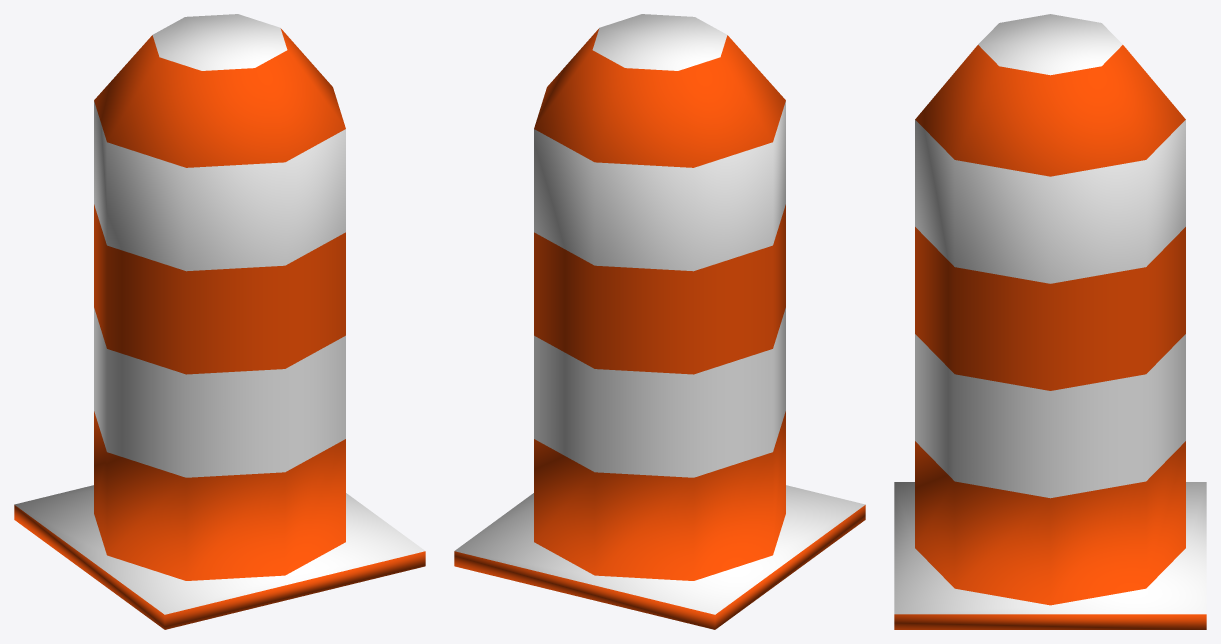
The model's file is trafficConeBig.fbx.
3 renders of one model, left to right at view 1: azimuth 30°, elevation 25°; view 2: azimuth 150°, elevation 25°; view 3: azimuth 270°, elevation 25°, orthographic. The views are drawn at different scales.
Visible parts, largest first — view 1: Cube; view 2: Cube; view 3: Cube.
Part boxes in pixels (box(x1,y1,x2,y2)): Cube: box(14, 14, 425, 629); Cube: box(454, 14, 865, 629); Cube: box(894, 14, 1206, 629).
Bounding box in the file's own units: 135 × 248 × 135.
